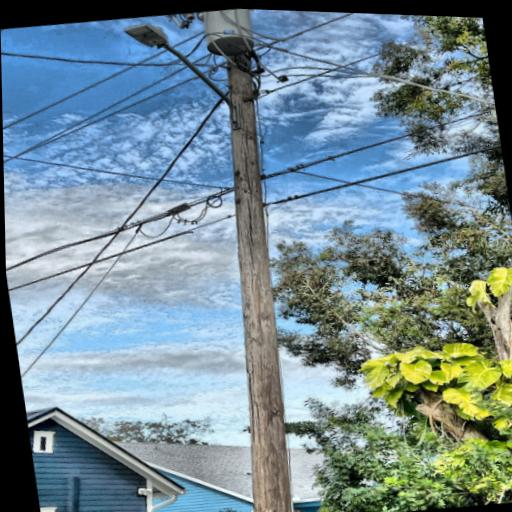pole: (154, 6, 323, 512)
street light: (121, 9, 253, 142)
transformer: (198, 7, 259, 61)
